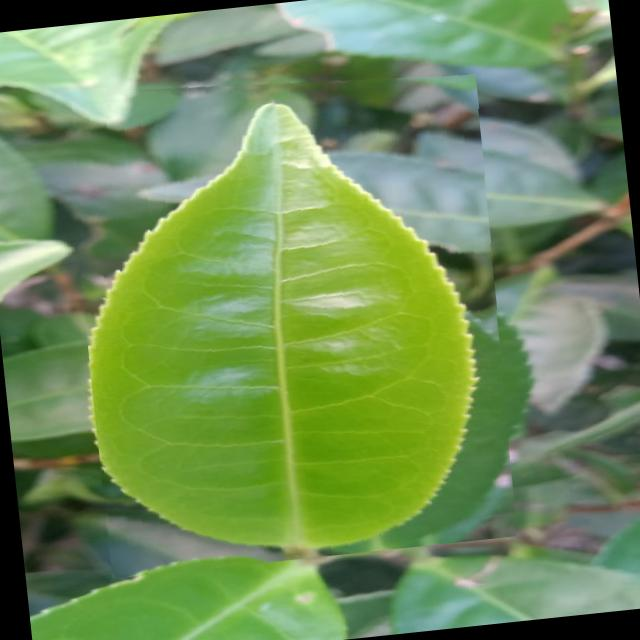Category B(2-4 days): (61, 49, 524, 578)
